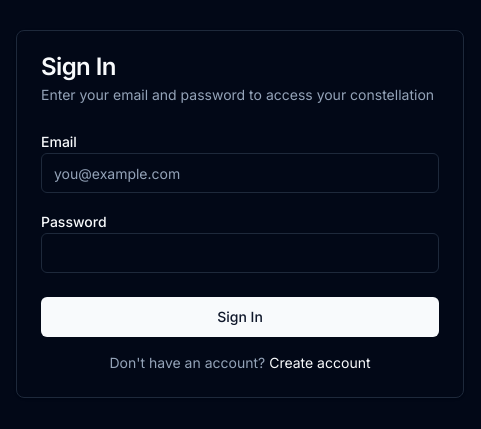
Scenario: Login Page › should validate password length
This screenshot has width=481, height=429.
In the field labelled "Email": (240, 173) [41, 153, 439, 193], type "test@example.com"
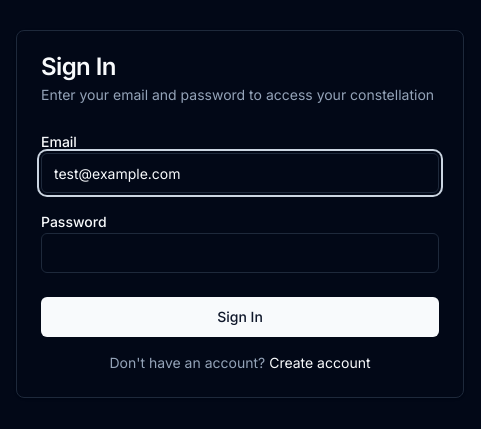
In the password field labelled "Password": (240, 253) [41, 233, 439, 273], type "123"
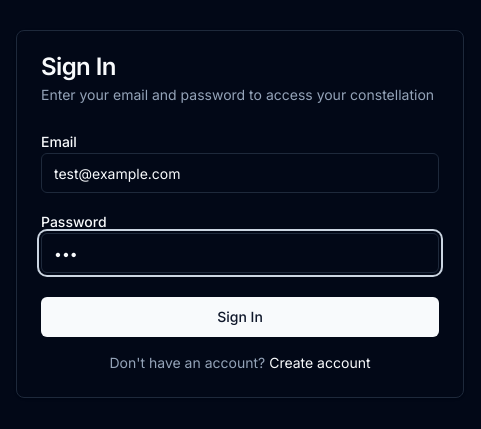
Click the button "Sign In": (240, 317) [41, 297, 439, 337]
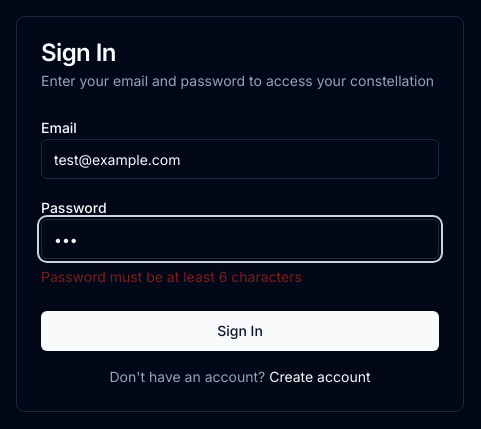
Result: the text "Password must be at least 6 characters" is shown at [41, 268, 302, 285]
